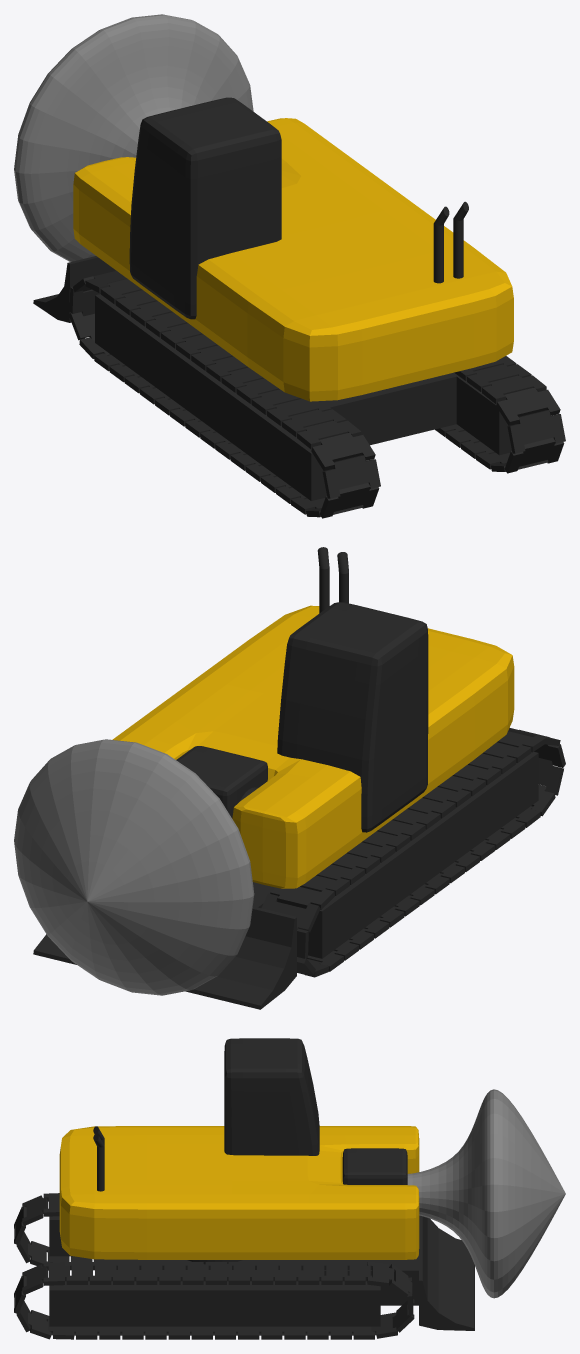
Rendered from digger_v1_static.glb.
The picture shows the model from 3 angles, top to bottom: view 1: azimuth 30°, elevation 25°; view 2: azimuth 150°, elevation 25°; view 3: azimuth 270°, elevation 25°; orthographic projection. The views are drawn at different scales.
Parts seen in each view (by area): view 1: engine_base, drill_profile, cabin, chassis, low_shovel, static_track.073, static_track.036, static_track.072, static_track.035, static_track.074, static_track.037, static_track.034 (+8 smaller); view 2: drill_profile, engine_base, cabin, chassis, low_shovel, drill_bearing, static_track.057, static_track.056, static_track.074, exhaust, static_track.070, static_track.058 (+7 smaller); view 3: engine_base, drill_profile, chassis, cabin, low_shovel, drill_bearing, shovel_attachment, static_track.034, static_track.020, static_track.022, static_track.027, static_track.028 (+18 smaller).
Boxes of the visible parts, <box> form: engine_base: <box>73,118,513,401</box>; drill_profile: <box>14,14,253,261</box>; cabin: <box>129,97,281,319</box>; chassis: <box>95,294,511,500</box>; low_shovel: <box>33,256,116,322</box>; static_track.073: <box>322,455,380,498</box>; static_track.036: <box>507,410,565,453</box>; static_track.072: <box>311,432,375,470</box>; static_track.035: <box>496,387,560,425</box>; static_track.074: <box>320,483,379,518</box>; static_track.037: <box>504,438,564,473</box>; static_track.034: <box>482,375,546,404</box>; drill_profile: <box>14,739,254,995</box>; engine_base: <box>112,605,514,888</box>; cabin: <box>277,602,428,832</box>; chassis: <box>308,752,538,958</box>; low_shovel: <box>33,906,296,1009</box>; drill_bearing: <box>176,746,267,818</box>; static_track.057: <box>270,887,334,909</box>; static_track.056: <box>261,893,320,932</box>; static_track.074: <box>538,758,563,795</box>; exhaust: <box>317,547,329,613</box>; static_track.070: <box>482,742,531,762</box>; static_track.058: <box>300,875,349,895</box>; engine_base: <box>59,1126,419,1259</box>; drill_profile: <box>407,1089,565,1298</box>; chassis: <box>49,1216,380,1326</box>; cabin: <box>224,1038,319,1155</box>; low_shovel: <box>419,1215,474,1330</box>; drill_bearing: <box>342,1148,407,1184</box>; shovel_attachment: <box>283,1255,418,1305</box>; static_track.034: <box>43,1262,69,1285</box>; static_track.020: <box>367,1261,393,1287</box>; static_track.022: <box>321,1262,347,1284</box>; static_track.027: <box>205,1262,231,1284</box>; static_track.028: <box>182,1262,208,1284</box>.
Size of the model in its own units: 2.11 by 2.36 by 5.5.
